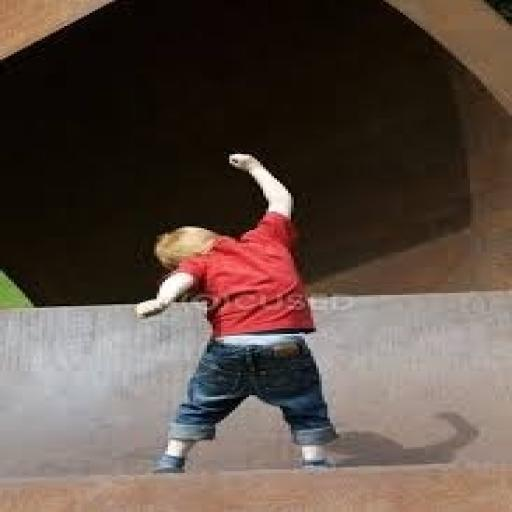dancing: (132, 150, 344, 477)
